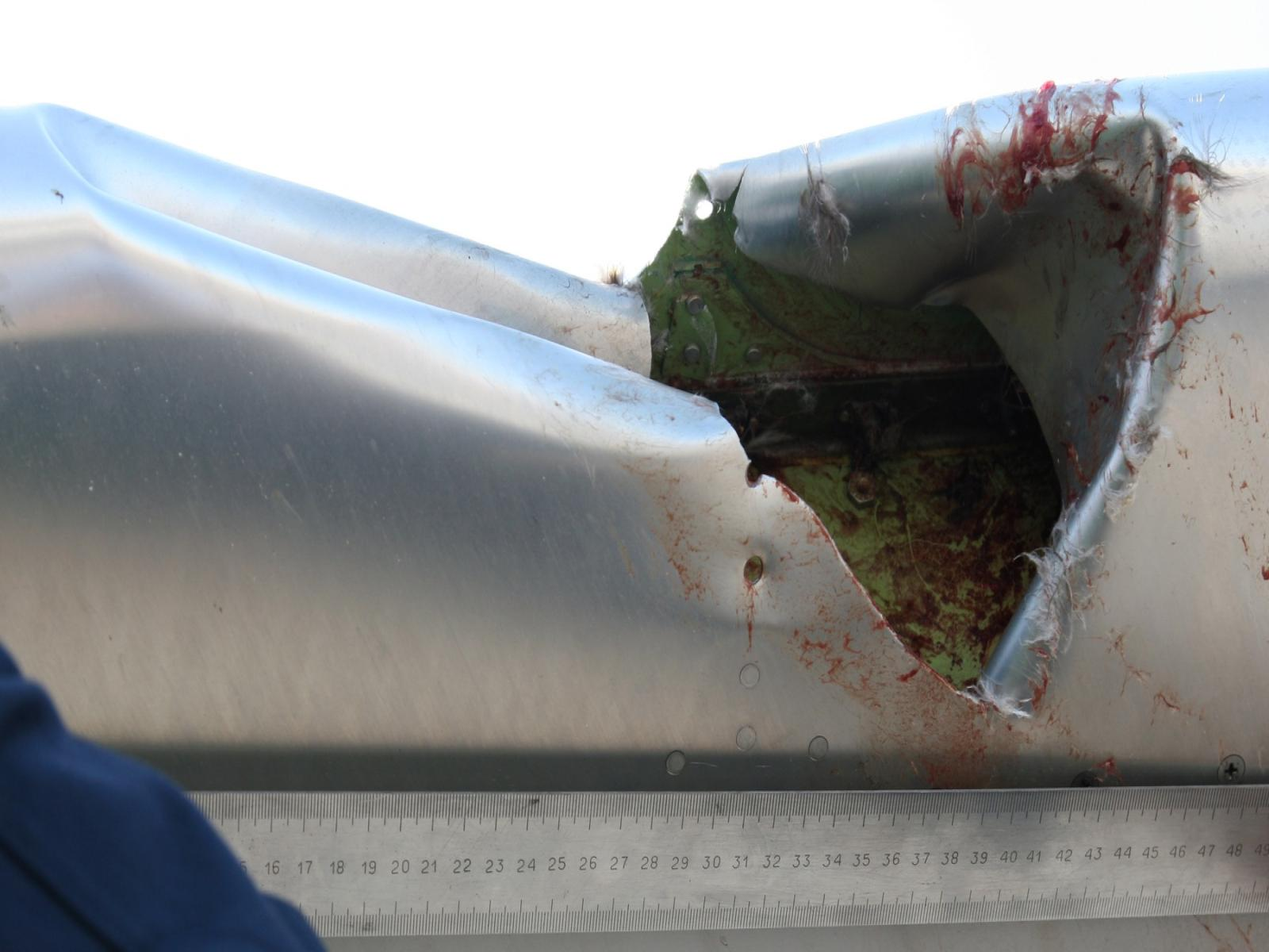Wing_damage: (642, 83, 1237, 702), (631, 201, 1061, 687), (638, 204, 1062, 688), (0, 106, 649, 376)
